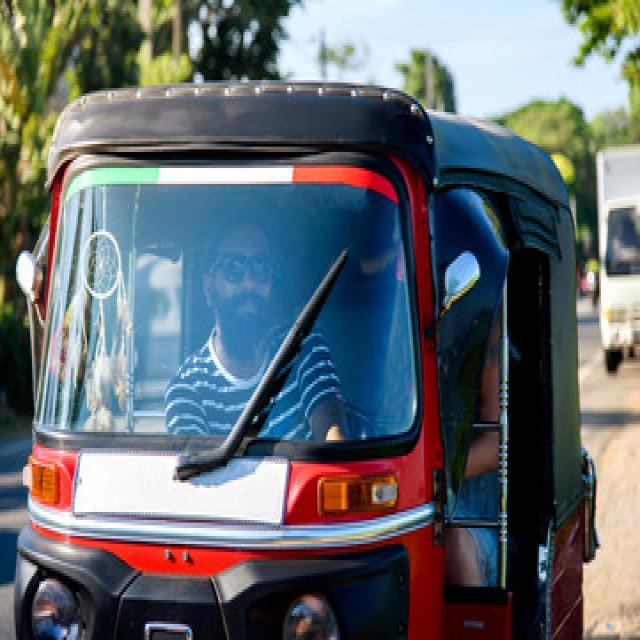three wheeler: (14, 83, 596, 640)
truck: (597, 144, 638, 373)
